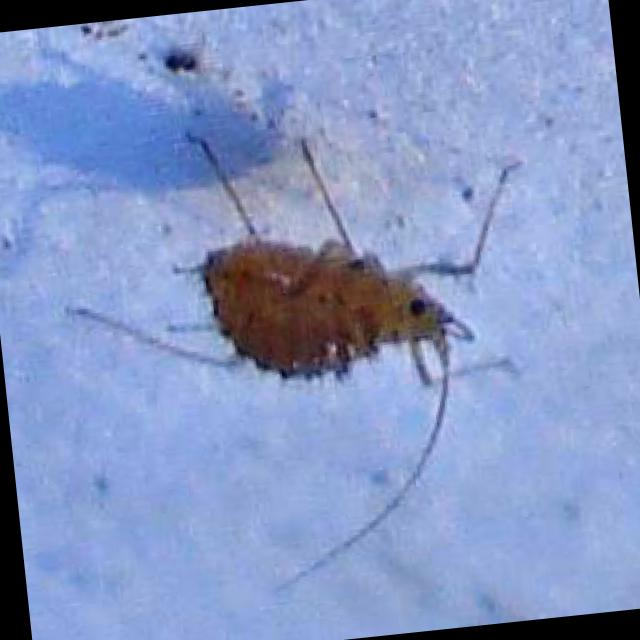Aphids: (93, 103, 513, 444)
